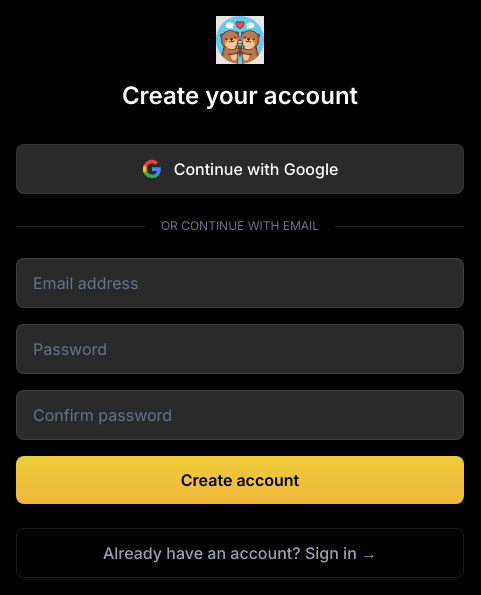
Test case: SignUpPage › handles successful email signup
Type "test@example.com" into the field with placeholder "Email address" at (240, 283), box [16,258,464,308]
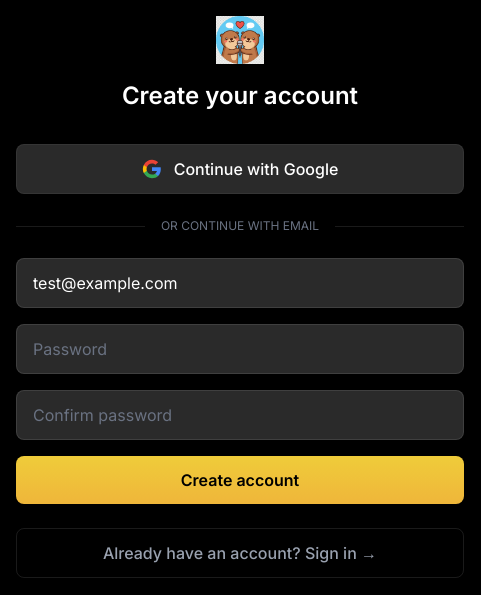
Type "password123" into the password field with placeholder "Password" at (240, 349), box [16,324,464,374]
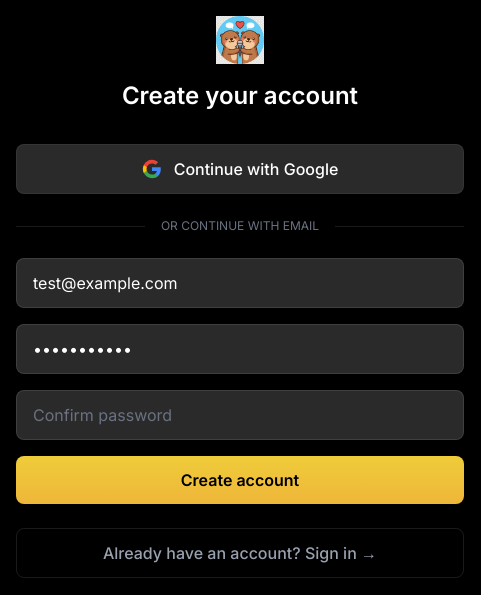
Type "password123" into the password field with placeholder "Confirm password" at (240, 415), box [16,390,464,440]
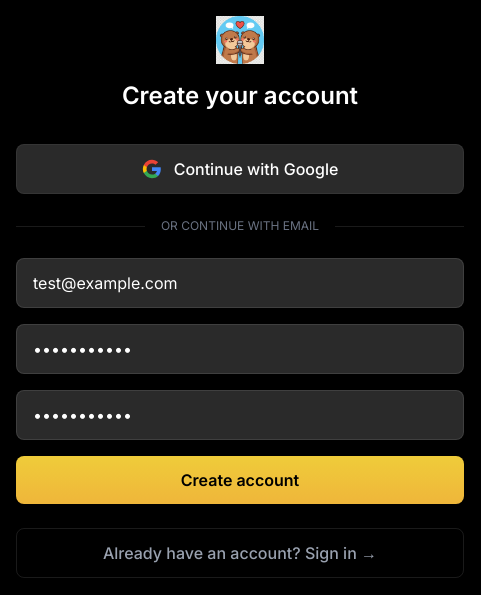
Click the button "Create account" at (240, 480), box [16,456,464,504]
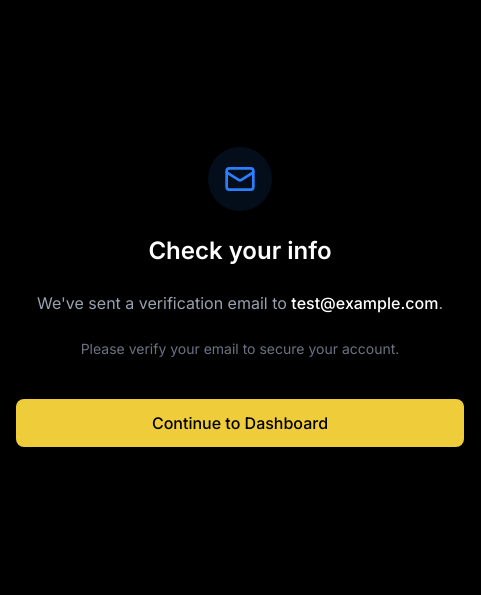
expect the heading "Check your info" is shown: met, box [148,236,332,265]
expect the text "test@example.com" is shown: met, box [291,293,438,313]
